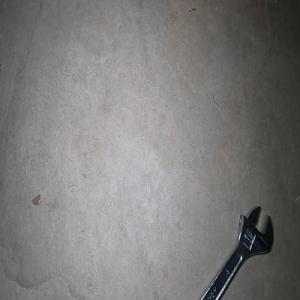Wrench: (200, 206, 273, 300)
